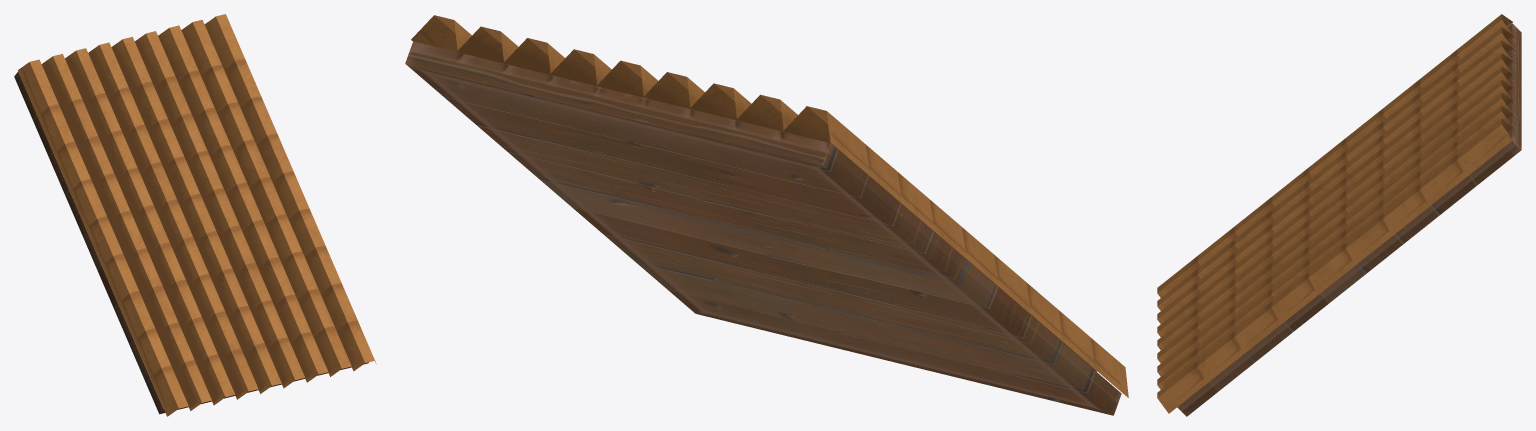
Rendered from Low_Poly_Roof.fbx.
3 renders of one model, left to right at view 1: azimuth 30°, elevation 25°; view 2: azimuth 150°, elevation 25°; view 3: azimuth 270°, elevation 25°, orthographic. The views are drawn at different scales.
Visible parts, largest first — view 1: Low_Poly_Roof; view 2: Low_Poly_Roof; view 3: Low_Poly_Roof.
Boxes of the visible parts, left/top/right/bottom form: Low_Poly_Roof: left=14, top=14, right=376, bottom=416; Low_Poly_Roof: left=405, top=15, right=1128, bottom=415; Low_Poly_Roof: left=1157, top=14, right=1521, bottom=416.
Bounding box in the file's own units: 413 × 471 × 538.
Materials: 1 (1 with a texture image).
